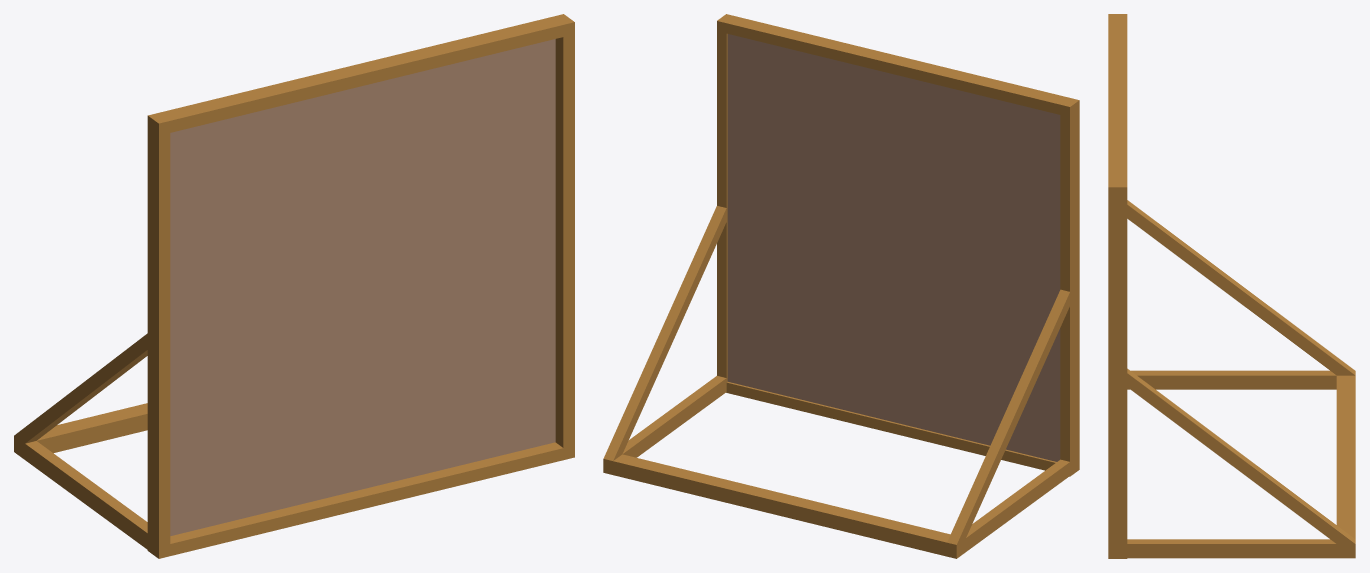
Rendered from woodframe.fbx.
The picture shows the model from 3 angles, left to right: view 1: azimuth 30°, elevation 25°; view 2: azimuth 150°, elevation 25°; view 3: azimuth 270°, elevation 25°; orthographic projection. The views are drawn at different scales.
Parts seen in each view (by area): view 1: Plane; view 2: Plane; view 3: Plane.
Part boxes in pixels (<box>): Plane: <box>14,14,574,558</box>; Plane: <box>603,14,1079,558</box>; Plane: <box>1108,14,1355,558</box>.
Bounding box in the file's own units: 500 × 500 × 301.
